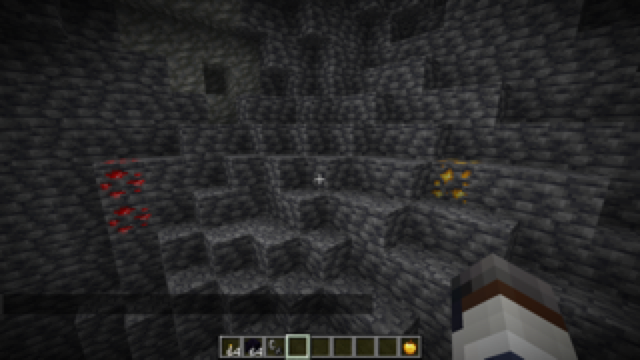gold: (423, 155, 481, 209)
redstone: (91, 156, 155, 237)
